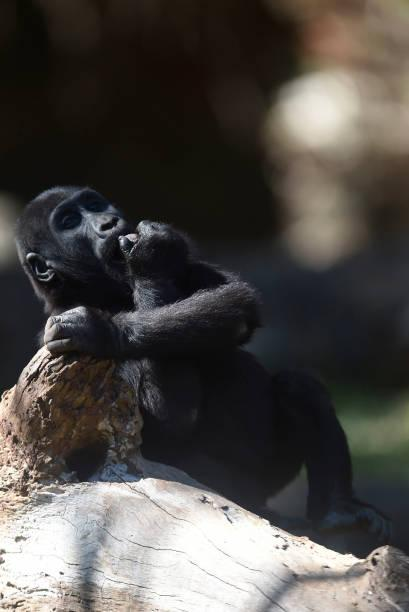gorille_Autres: (0, 152, 401, 515)
